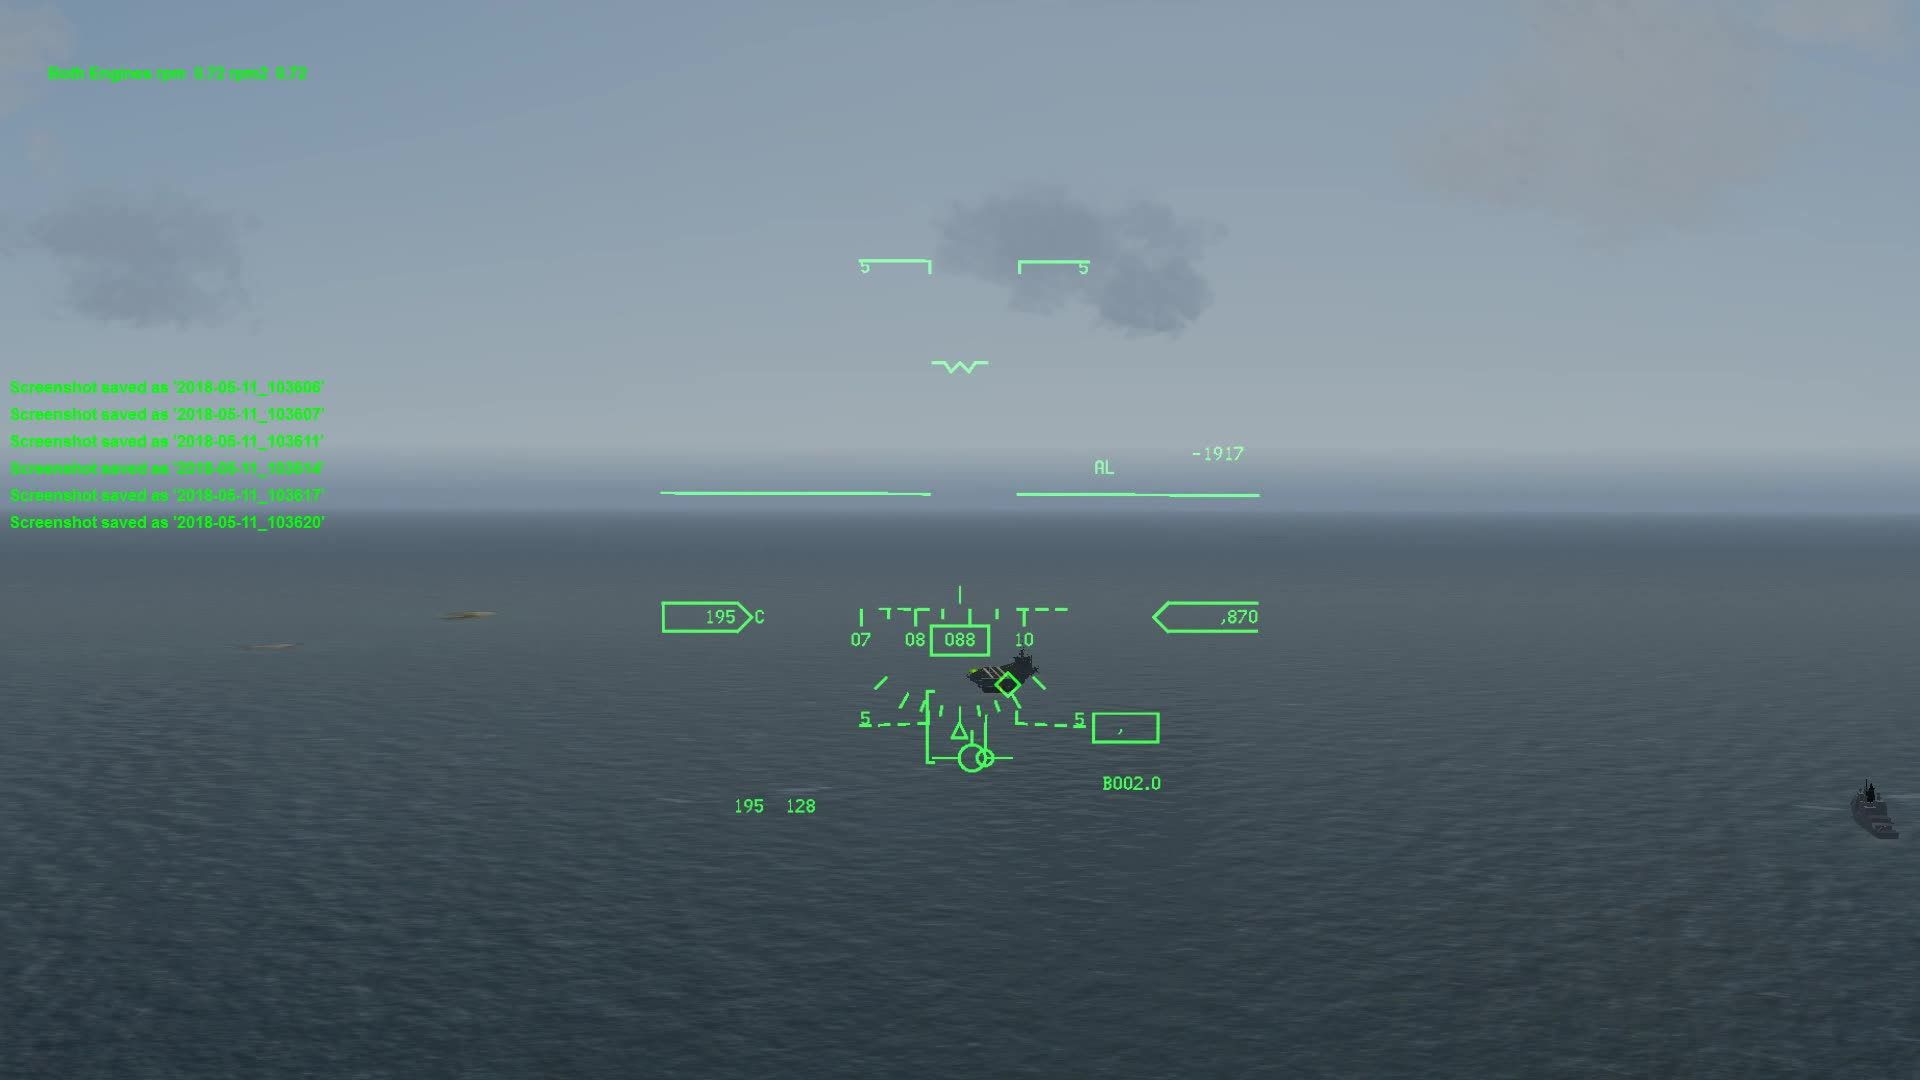speed vector: (943, 731, 1025, 769)
